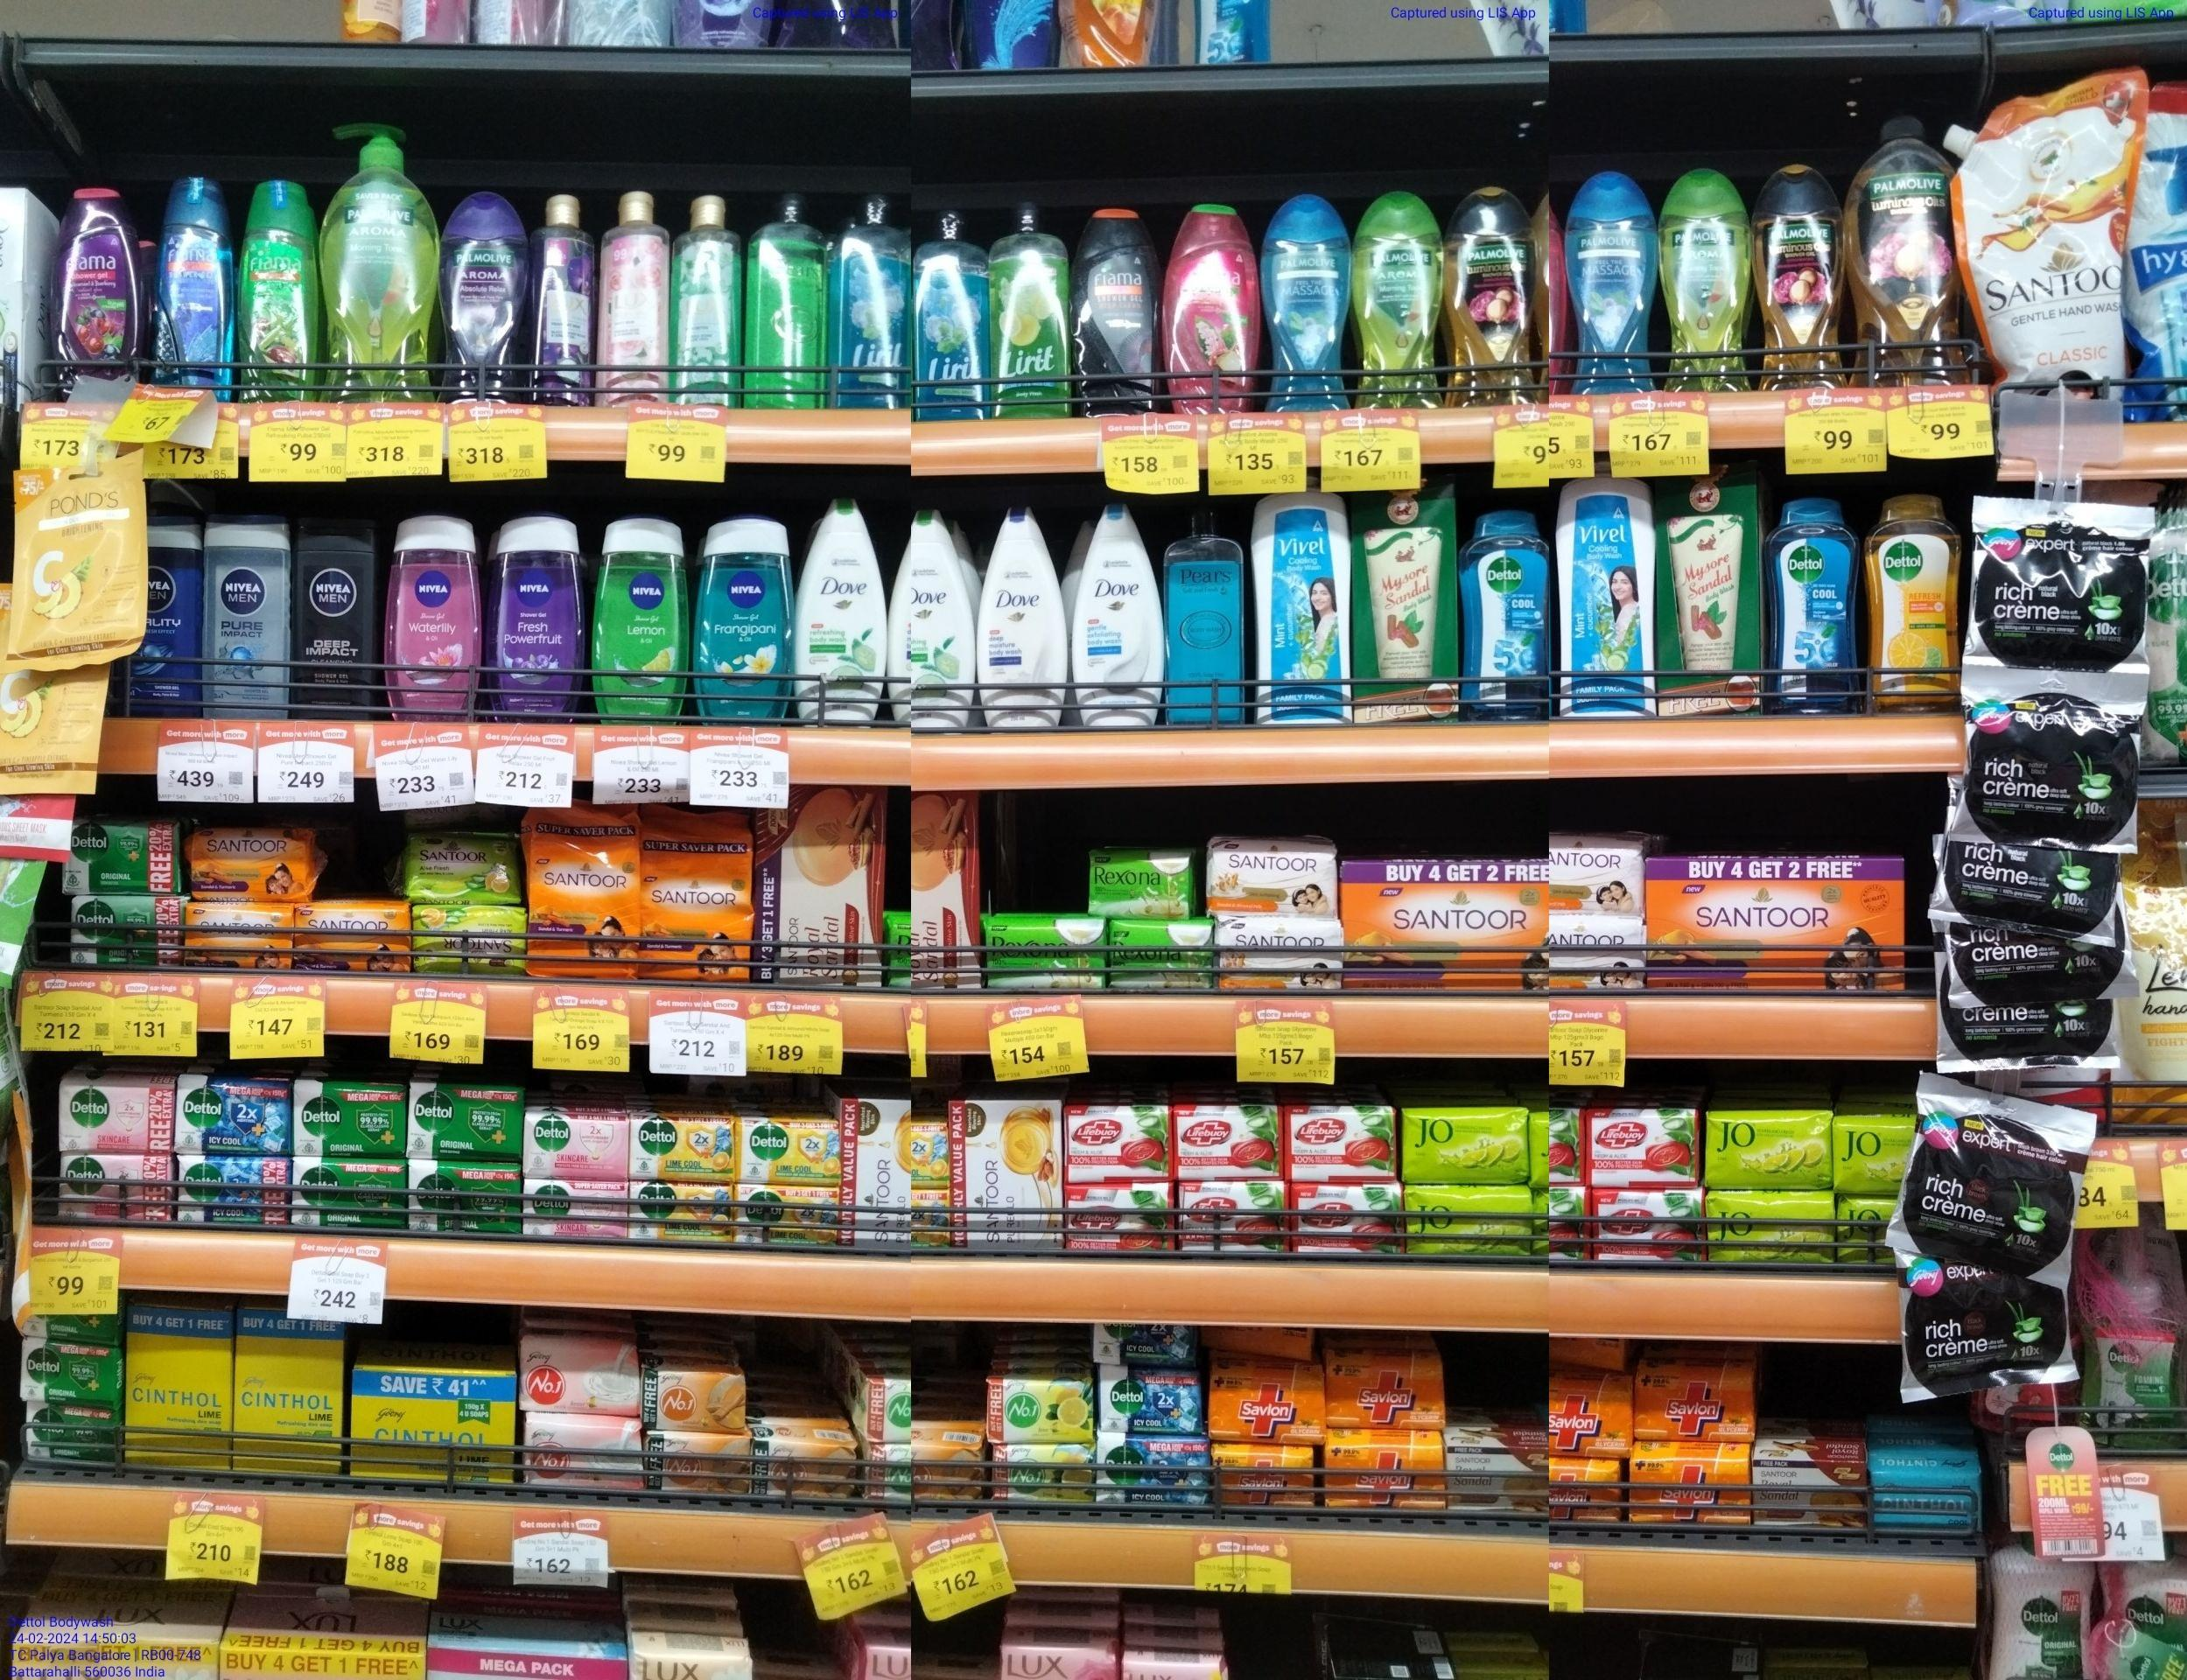Dettol_Bodywash_Cool: (1765, 494, 1862, 713), (1462, 498, 1553, 718)
Dettol_Bodywash_Refresh: (1864, 491, 1958, 711)
Dove_Deep_Moisture_Body_Wash_250ML: (976, 496, 1064, 727)
Dove_Gentle_Exfoliating_Body_Wash_250ML: (1071, 499, 1158, 724)
Dove_Refreshing_Body_Wash_250ML: (796, 498, 883, 725)
Fiama_Shower_Gel_Patchouli_and_Macadamia_250ML: (1165, 203, 1259, 411)
Liril_Cooling_Mint_Body_Wash_250ML: (833, 196, 909, 409), (916, 203, 988, 418)
Liril_Lime_and_Tea_Tree_Oil_Body_Wash_250ML: (996, 203, 1070, 415)
Lux_Body_Wash_Skin_Detox_Freesia_Scent_and_Alove_Vera_245ML: (669, 192, 740, 402)
Nivea_Shower_Gel_Frangipani_and_Oil_250ML: (694, 524, 789, 718)
Nivea_Shower_Gel_Fresh_Powerfruit_250ML: (489, 514, 582, 718)
Nivea_Shower_Gel_Lemon_and_Oil_250ML: (593, 519, 688, 725), (747, 189, 824, 408)
Nivea_Shower_Gel_Waterlily_and_Oil_250ML: (387, 508, 477, 713)
Palmolive_Aroma_Moments_Feel_The_Massage_Shower_Gel_250ML: (1566, 176, 1661, 392), (1262, 199, 1352, 409)
Palmolive_Aroma_Morning_Tonic_Shower_Gel_250ML: (1356, 198, 1442, 406), (1666, 171, 1749, 388)
Palmolive_Aroma_Relax_250ML: (441, 189, 526, 404), (535, 196, 597, 402)
Palmolive_Luminous_Oils_Invigorating_Macadamia_Oil_With_Peony_250ML: (1756, 162, 1848, 388), (1447, 191, 1536, 404)
Pears_Pure_Glycerin_and_Mint_Extracts_Body_Wash_250ML: (1163, 505, 1250, 722)
